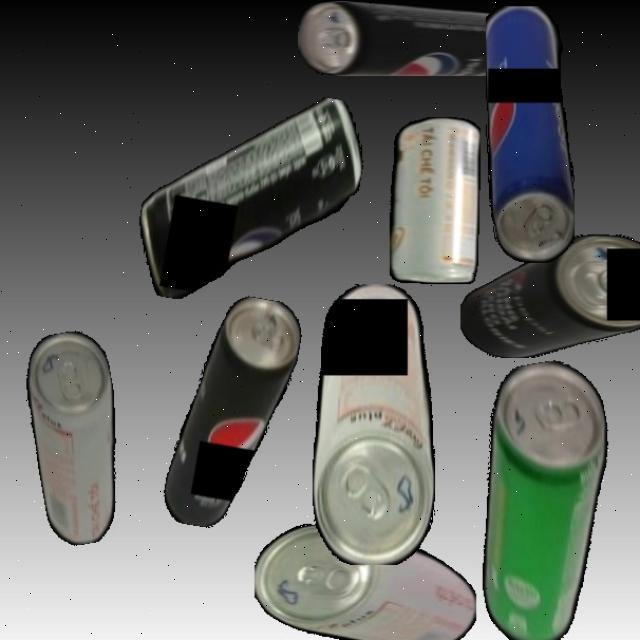debris: (128, 70, 373, 326), (446, 354, 640, 640), (160, 288, 306, 538), (312, 283, 435, 565), (17, 326, 138, 550), (254, 523, 476, 640), (484, 5, 574, 263), (459, 234, 640, 358), (298, 0, 531, 76), (388, 117, 481, 284)
